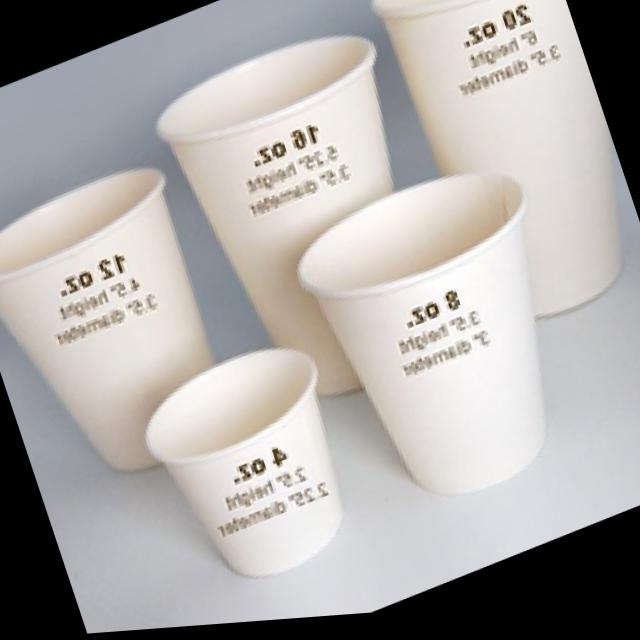paper_cups: (148, 13, 471, 439), (292, 155, 604, 536), (361, 0, 640, 362), (0, 154, 246, 515), (134, 329, 372, 613)
